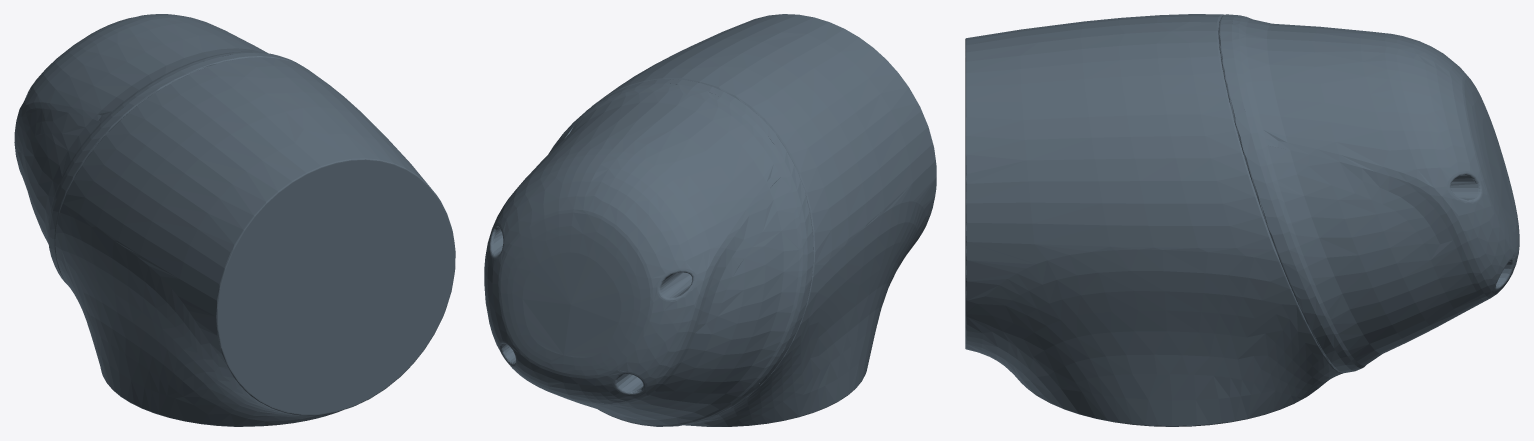
3 renders of one model, left to right at view 1: azimuth 30°, elevation 25°; view 2: azimuth 150°, elevation 25°; view 3: azimuth 270°, elevation 25°, orthographic. The views are drawn at different scales.
Parts seen in each view (by area): view 1: A0509_4_1; view 2: A0509_4_1; view 3: A0509_4_1.
Boxes of the visible parts, x1,y1,x2,y2 form: A0509_4_1: [14, 14, 455, 426]; A0509_4_1: [484, 14, 936, 426]; A0509_4_1: [965, 14, 1519, 426].
Size of the model in its own units: 101 by 155 by 101.
